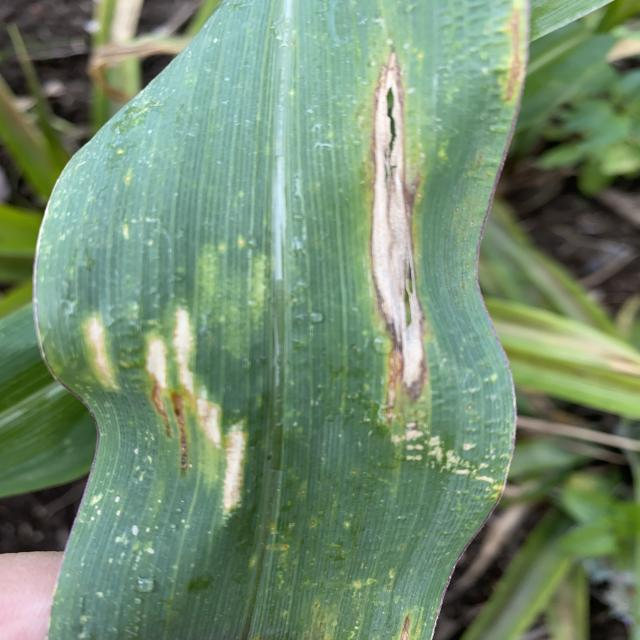Corn_Leaf_Blight: (37, 0, 524, 640)
